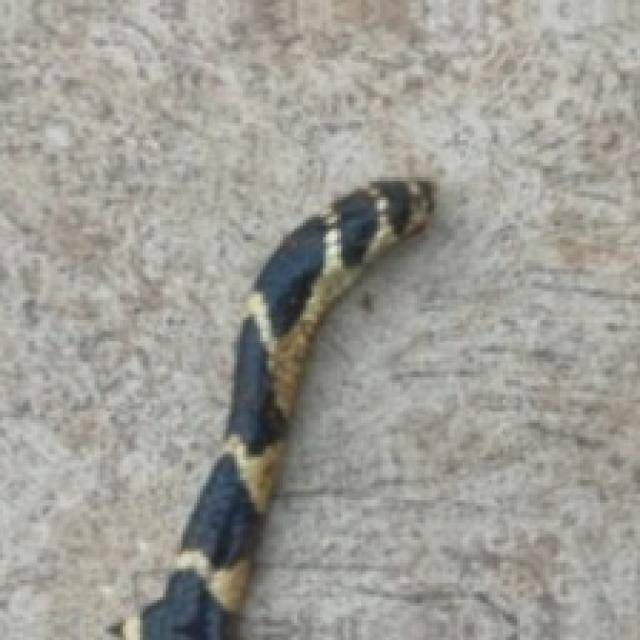king cobra: (120, 177, 431, 637)
